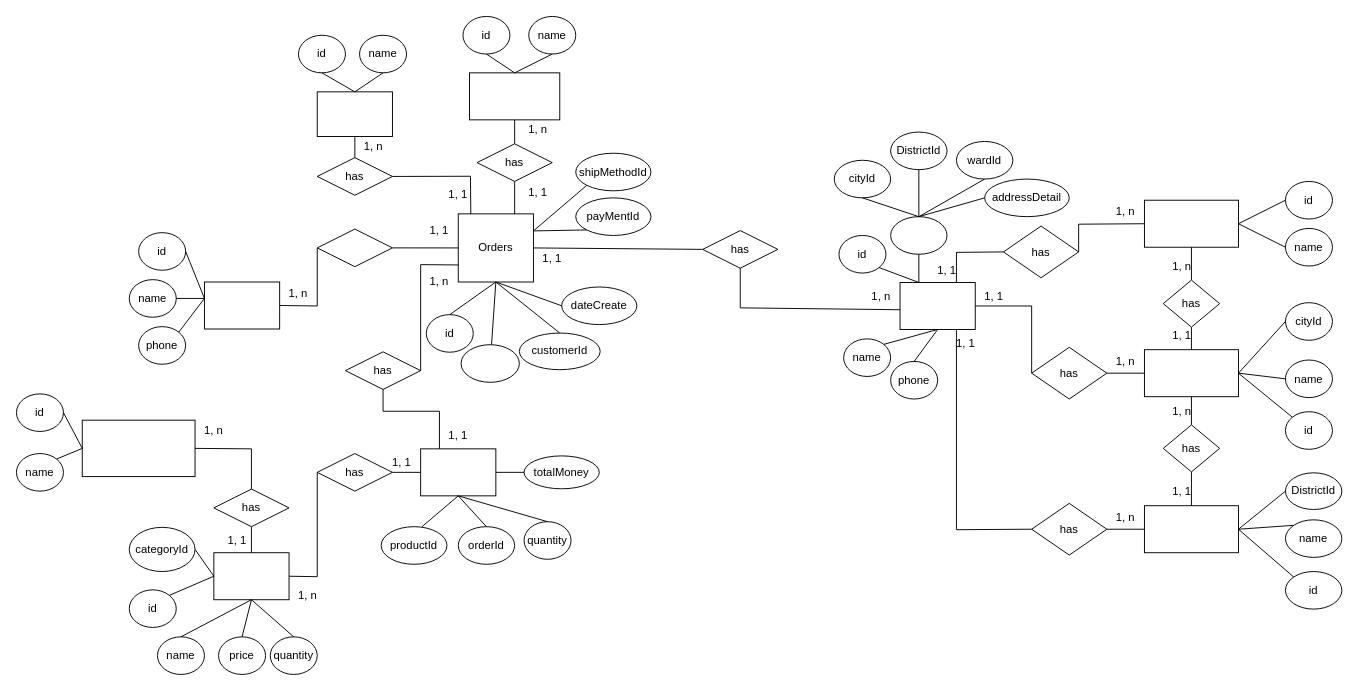
The diagram is 1358 pixels wide and 691 high, and some of its shapes have lost their labels. Here are the shapes that lost their labels. From the top down, the centre of each, then its label:
At pixel 354 113: "shipMethod".
At pixel 514 96: "paymentMethod".
At pixel 918 235: "address".
At pixel 1191 223: "City".
At pixel 354 247: "Create".
At pixel 242 305: "Staffs".
At pixel 937 305: "Customers".
At pixel 489 363: "staffId".
At pixel 1191 373: "District".
At pixel 138 448: "Category".
At pixel 458 472: "OderDetail".
At pixel 1191 529: "ward".
At pixel 251 576: "Products".
